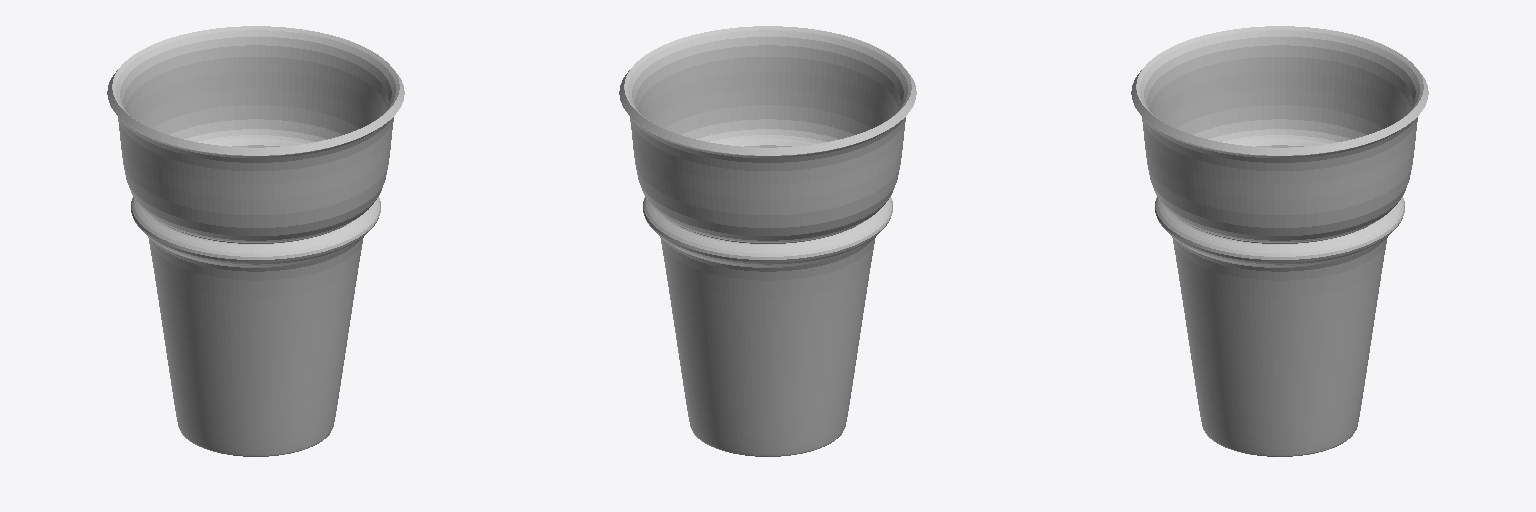
Rendered from woofle_cup.obj.
The picture shows the model from 3 angles: view 1: azimuth 30°, elevation 25°; view 2: azimuth 150°, elevation 25°; view 3: azimuth 270°, elevation 25°; orthographic projection.
Bounding box in the file's own units: 2.15 × 2.7 × 2.15.